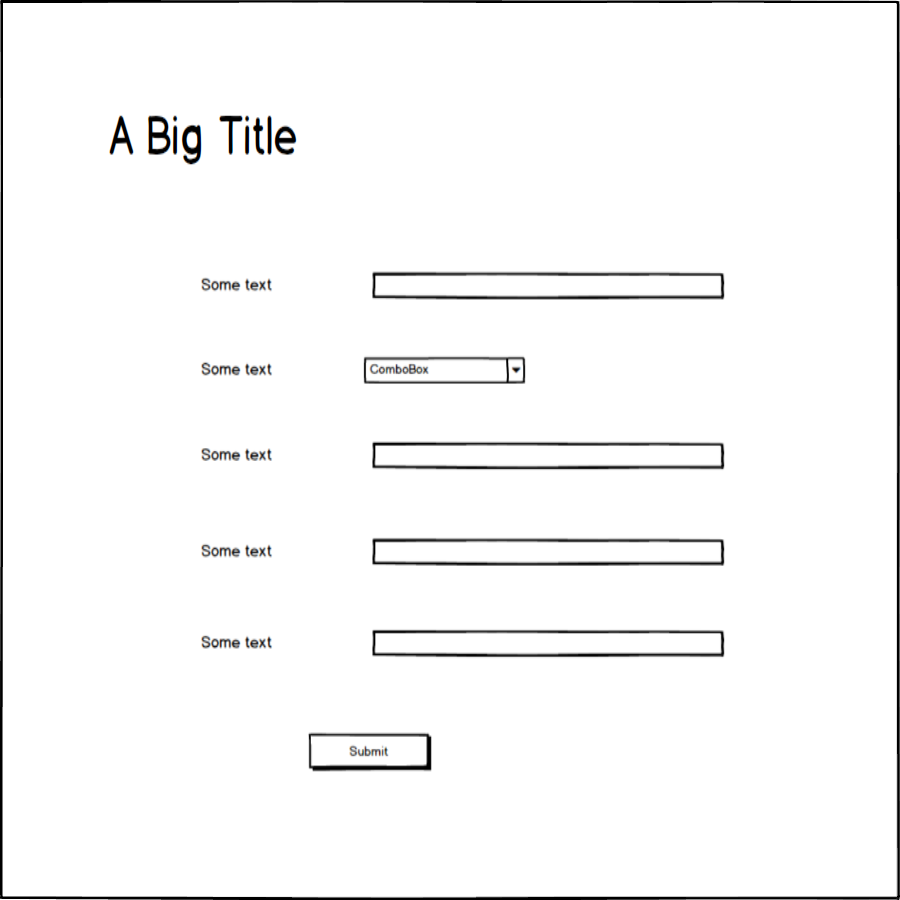button: (302, 729, 438, 775)
h1: (97, 101, 305, 170)
input: (370, 622, 727, 662), (368, 267, 733, 301), (370, 533, 728, 567), (370, 440, 727, 471)
label: (197, 629, 281, 658), (198, 269, 275, 299), (197, 358, 279, 384), (196, 538, 276, 564), (193, 443, 278, 466)
select_box: (359, 351, 528, 391)
